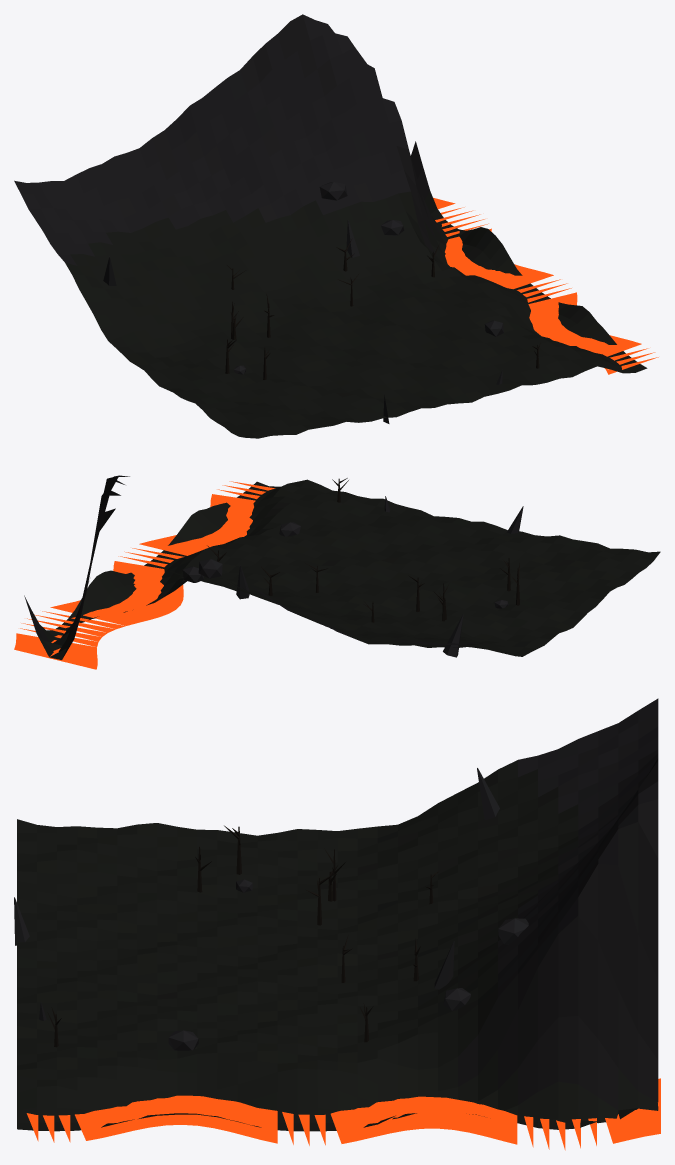
File: chunk-3-1.glb
3 views of the same model, one above another, from view 1: azimuth 30°, elevation 25°; view 2: azimuth 150°, elevation 25°; view 3: azimuth 270°, elevation 25° (orthographic). The views are drawn at different scales.
Visible parts, largest first — view 1: Ash_Ground, Mountain_Rock, Lava, Cliff_Rock, Dark_Rock, Dead_Wood; view 2: Ash_Ground, Lava, Dark_Rock, Cliff_Rock, Dead_Wood, Mountain_Rock; view 3: Ash_Ground, Cliff_Rock, Mountain_Rock, Lava, Dark_Rock, Dead_Wood.
Part boxes in pixels (box(x1,y1,x2,y2)): Ash_Ground: box(65, 191, 647, 438); Mountain_Rock: box(14, 14, 410, 265); Lava: box(433, 197, 658, 374); Cliff_Rock: box(252, 14, 440, 257); Dark_Rock: box(103, 182, 503, 423); Dead_Wood: box(225, 238, 540, 379); Ash_Ground: box(37, 479, 660, 659); Lava: box(14, 481, 275, 669); Dark_Rock: box(182, 496, 523, 657); Cliff_Rock: box(24, 477, 118, 659); Dead_Wood: box(207, 478, 519, 622); Mountain_Rock: box(109, 475, 477, 645); Ash_Ground: box(17, 760, 658, 1131); Cliff_Rock: box(458, 758, 658, 1109); Mountain_Rock: box(498, 698, 658, 996); Lava: box(26, 1078, 660, 1150); Dark_Rock: box(14, 768, 528, 1050); Dead_Wood: box(47, 825, 439, 1047).
Size of the model in its own units: 86.75 by 40.62 by 80.71.
